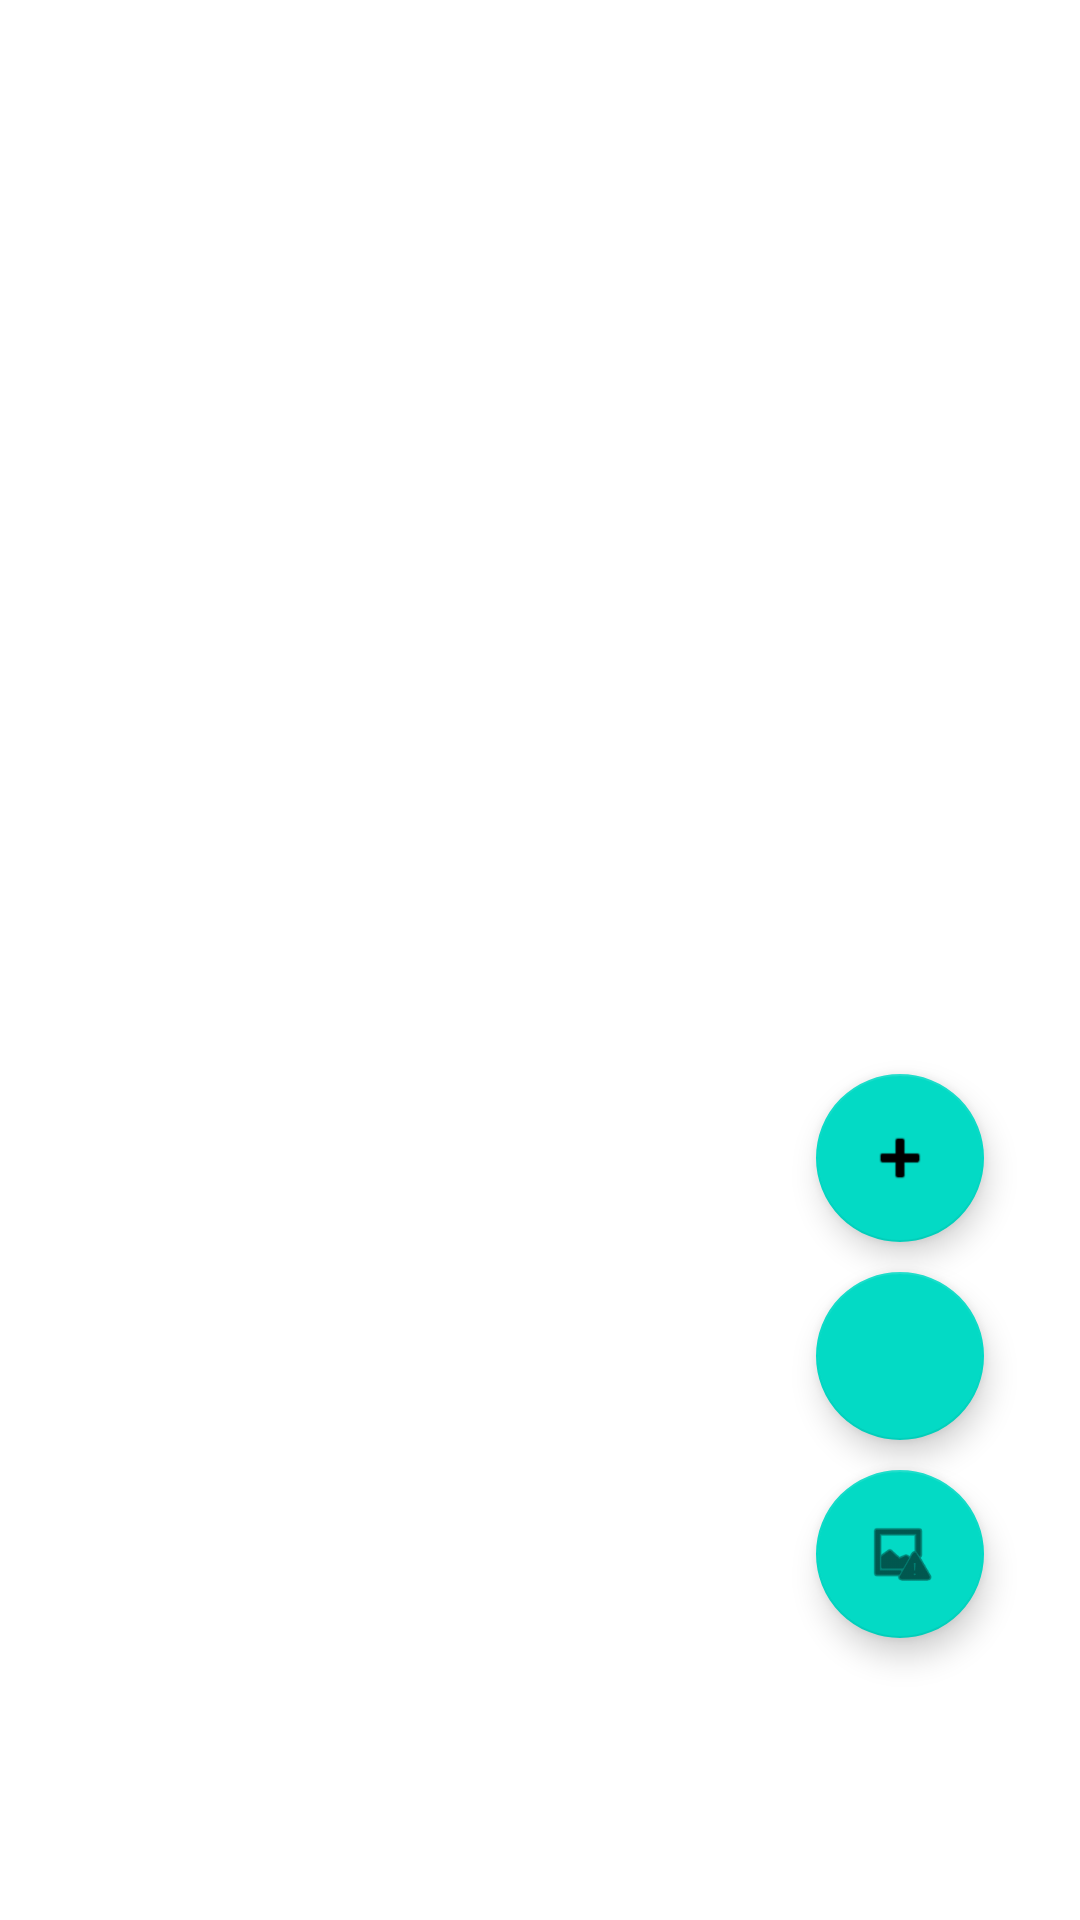

Screen size 1080*1920. Icon name, then its center in pixels as point (x, y):
add: point (900, 1158)
